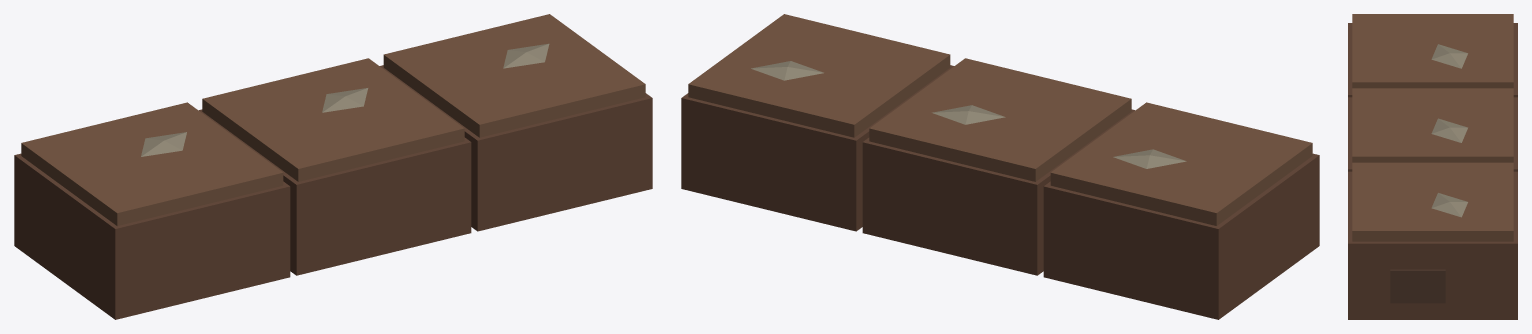
The model's file is pile-mud-3.gltf.
3 views of the same model, side by side, from view 1: azimuth 30°, elevation 25°; view 2: azimuth 150°, elevation 25°; view 3: azimuth 270°, elevation 25° (orthographic). The views are drawn at different scales.
Visible parts, largest first — view 1: pile-mud-3; view 2: pile-mud-3; view 3: pile-mud-3.
Part boxes in pixels (x1,y1,x2,y2): pile-mud-3: [14, 14, 652, 319]; pile-mud-3: [681, 14, 1319, 319]; pile-mud-3: [1348, 14, 1517, 319].
Bounding box in the file's own units: 0.869 × 0.167 × 0.282.
